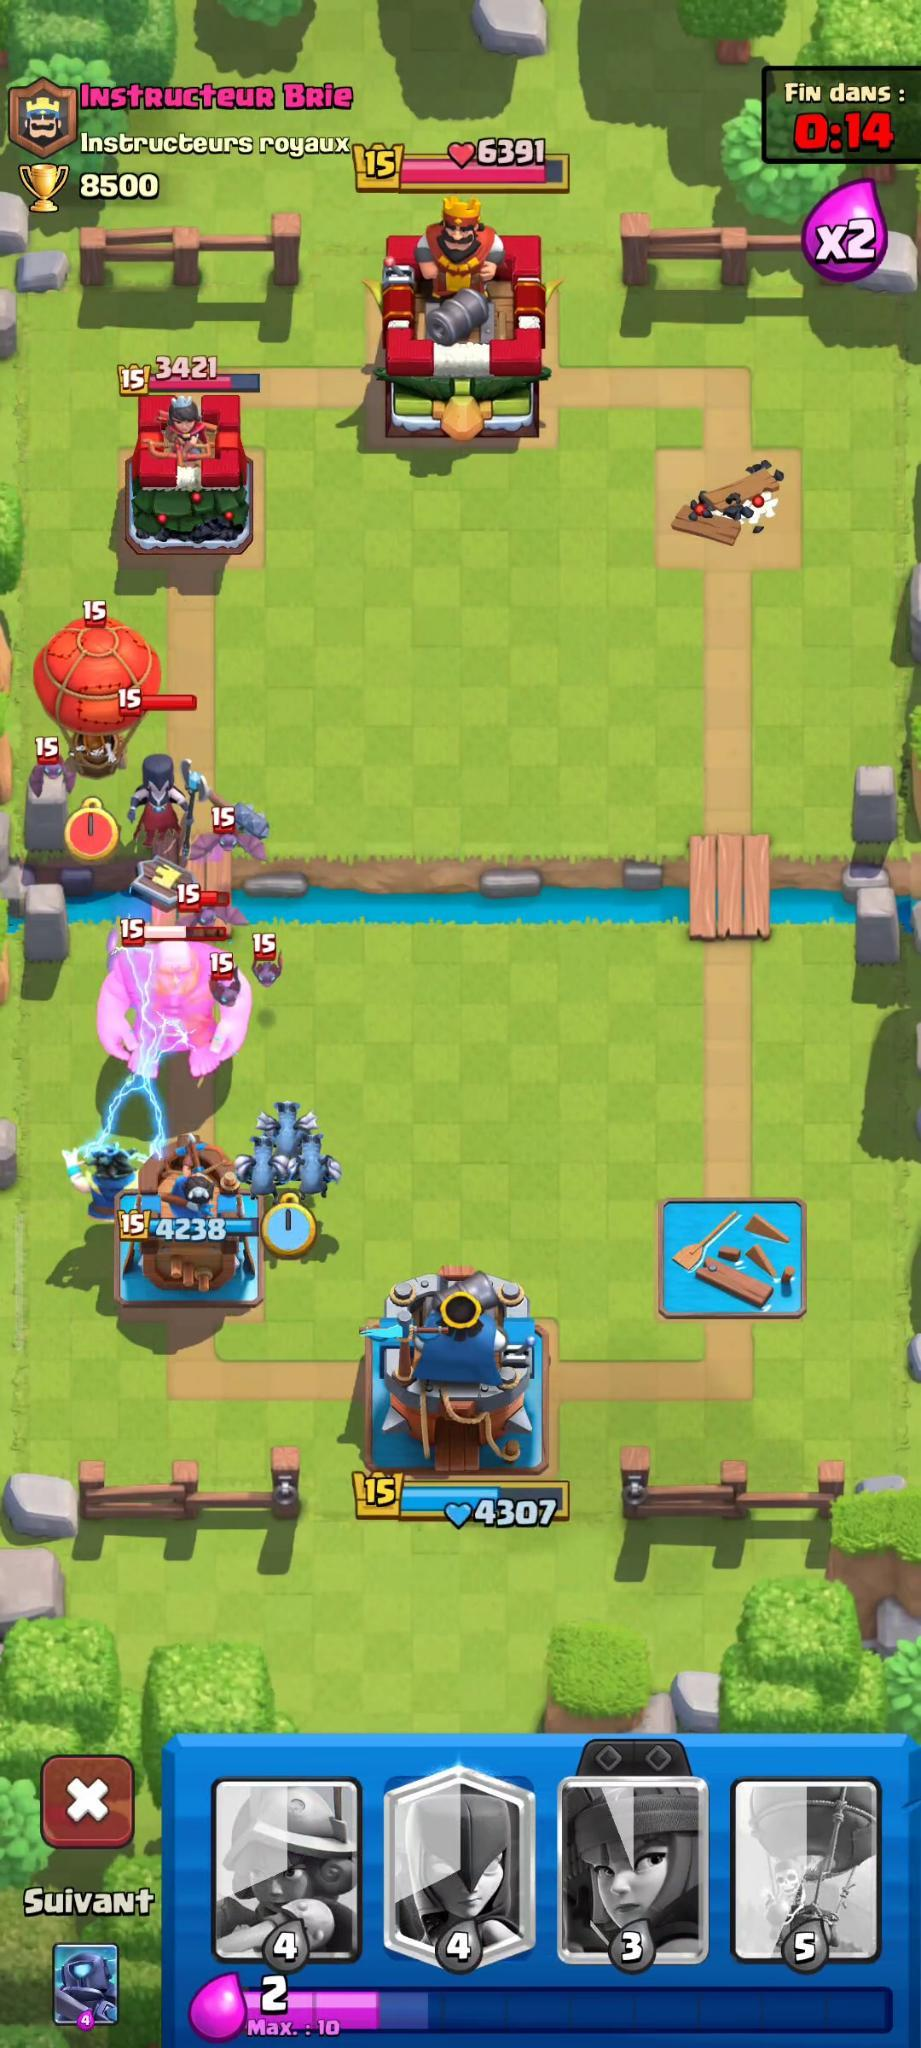enemy_balloon: (27, 594, 174, 784)
enemy_bats: (184, 800, 274, 877), (22, 732, 76, 804), (250, 933, 294, 994), (206, 955, 245, 1003)
enemy_giant: (75, 912, 256, 1092)
enemy_night_witch: (122, 746, 209, 876)
player_electro_wizard: (73, 1136, 140, 1222)
player_minions: (286, 1123, 344, 1211), (231, 1124, 289, 1205), (255, 1095, 316, 1166)
